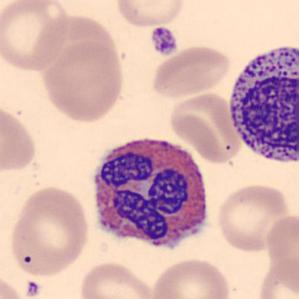Basophil: (226, 43, 299, 166)
Eosinophil: (86, 128, 215, 259)
Platelets: (148, 24, 179, 57), (24, 278, 42, 299)
RBC: (7, 183, 92, 279), (39, 38, 126, 124), (34, 12, 119, 97), (214, 181, 292, 255), (168, 90, 242, 165), (0, 0, 70, 73), (148, 43, 232, 100), (148, 256, 233, 299), (76, 259, 158, 299), (0, 103, 39, 174), (263, 212, 299, 275), (113, 0, 187, 29), (255, 255, 299, 299), (0, 272, 29, 299)
